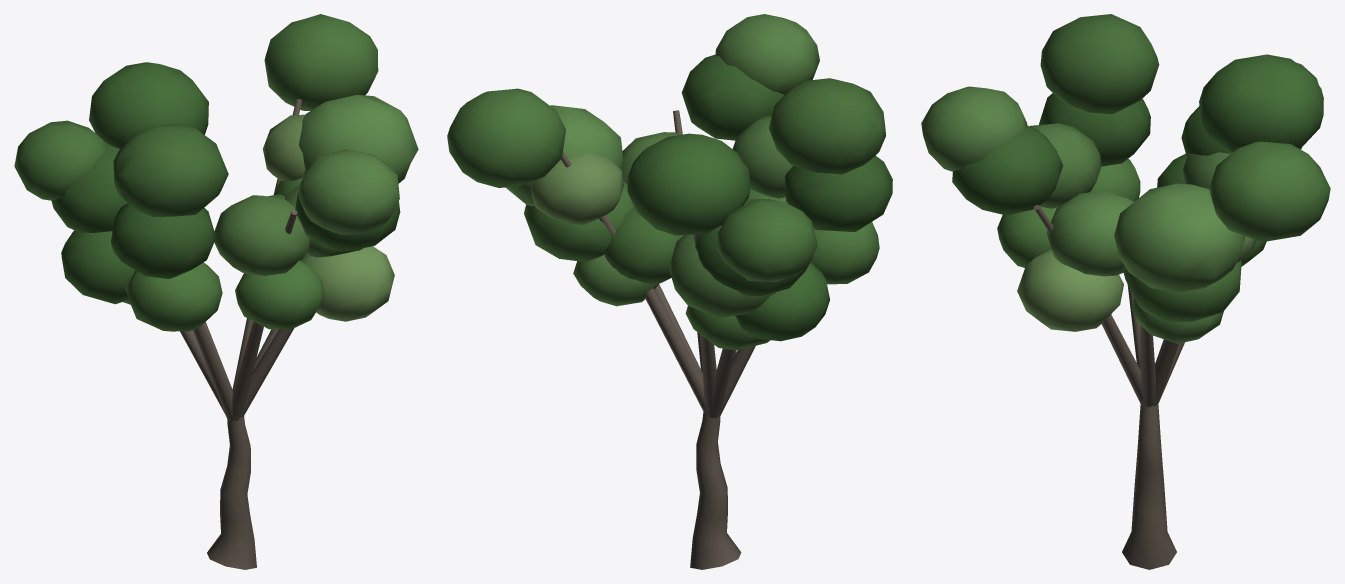
File: tree_zelkova_b.glb
The picture shows the model from 3 angles, left to right: view 1: azimuth 30°, elevation 25°; view 2: azimuth 150°, elevation 25°; view 3: azimuth 270°, elevation 25°; orthographic projection. The views are drawn at different scales.
Visible parts, largest first — view 1: crown, trunk; view 2: crown, trunk; view 3: crown, trunk.
Boxes of the visible parts, <box> form: crown: <box>14,14,418,331</box>; trunk: <box>180,98,301,569</box>; crown: <box>447,14,892,350</box>; trunk: <box>561,110,755,569</box>; crown: <box>921,14,1330,343</box>; trunk: <box>1034,163,1184,569</box>.
Size of the model in its own units: 5.09 by 6.61 by 4.98.
